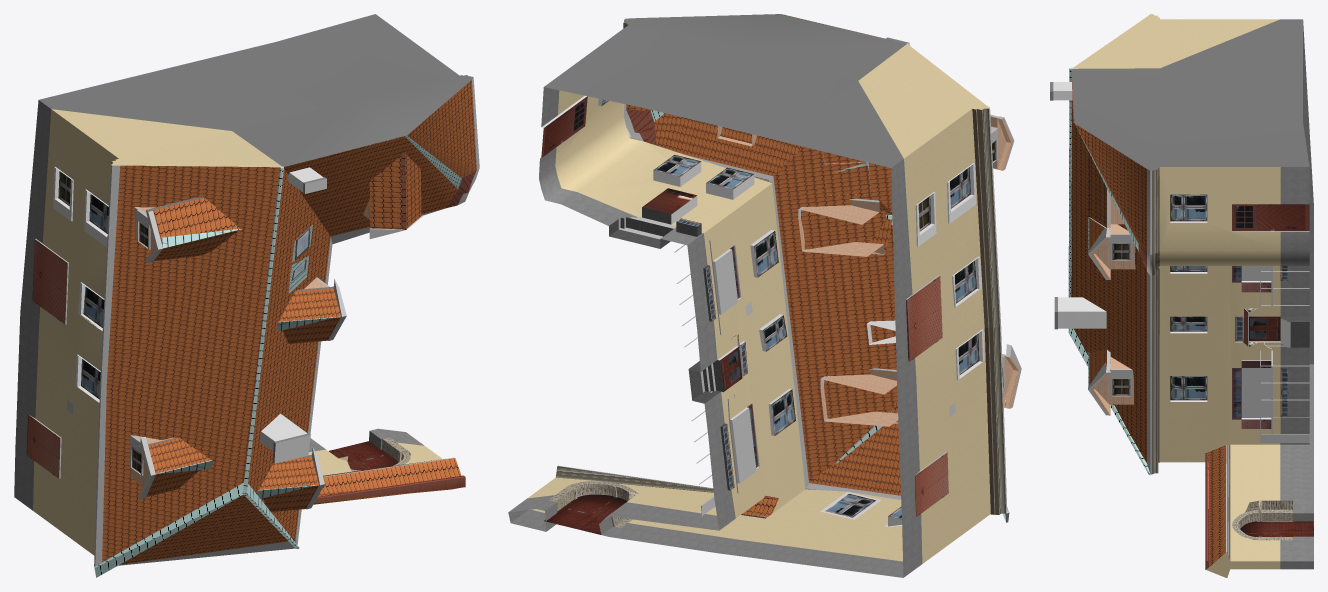
The model's file is Suur_Kloostri_2-origo.obj.
3 views of the same model, side by side, from view 1: azimuth 30°, elevation 25°; view 2: azimuth 150°, elevation 25°; view 3: azimuth 270°, elevation 25° (orthographic). The views are drawn at different scales.
Parts seen in each view (by area): view 1: Suur_Kloostri_2; view 2: Suur_Kloostri_2; view 3: Suur_Kloostri_2.
Part boxes in pixels (bbox=[...]): Suur_Kloostri_2: bbox=[14, 14, 479, 577]; Suur_Kloostri_2: bbox=[508, 14, 1021, 577]; Suur_Kloostri_2: bbox=[1050, 14, 1313, 577].
Size of the model in its own units: 20.75 by 22 by 13.21.
